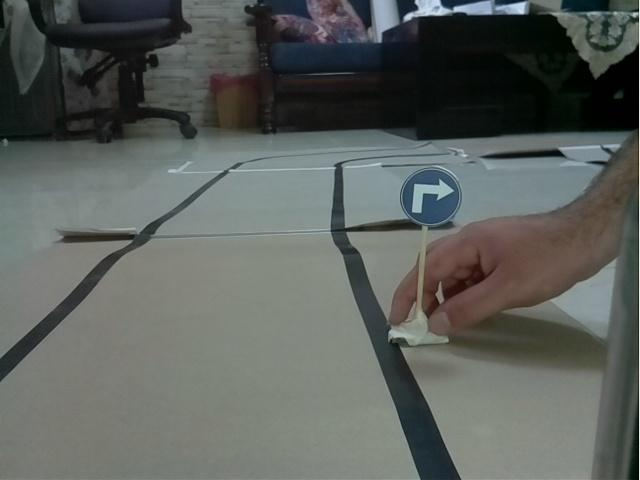turn: (399, 164, 464, 229)
